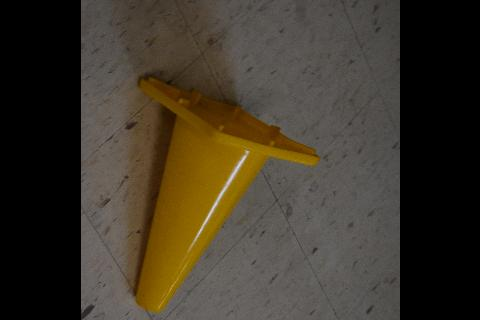cone: (134, 76, 320, 314)
